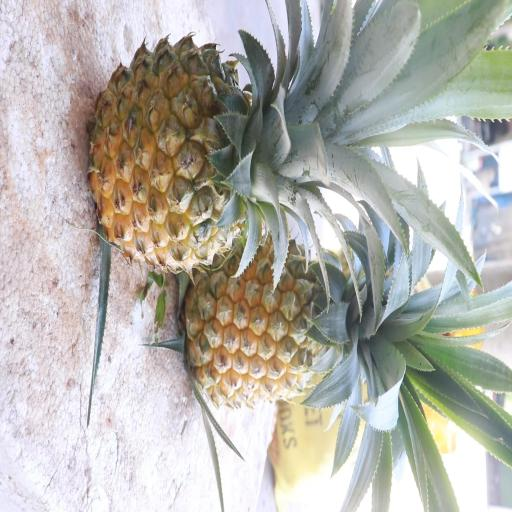Pineapple - v8 v1: (85, 30, 332, 278), (179, 226, 392, 414)
